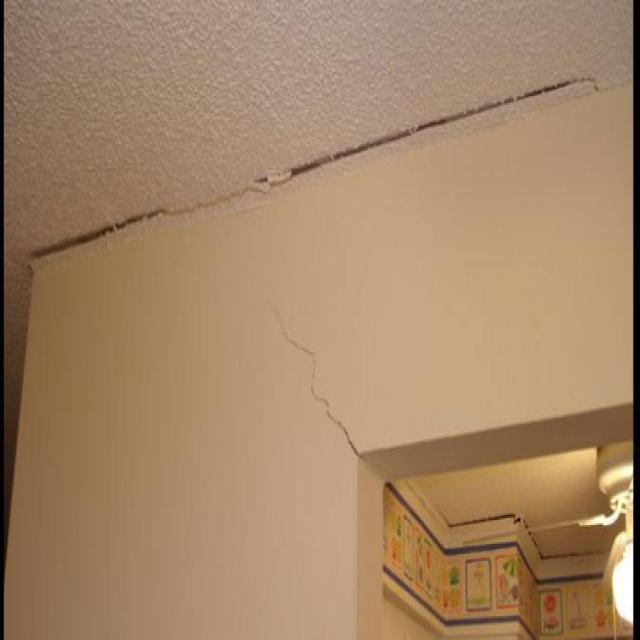crack: (289, 74, 594, 178), (26, 183, 272, 262), (271, 289, 368, 465)
